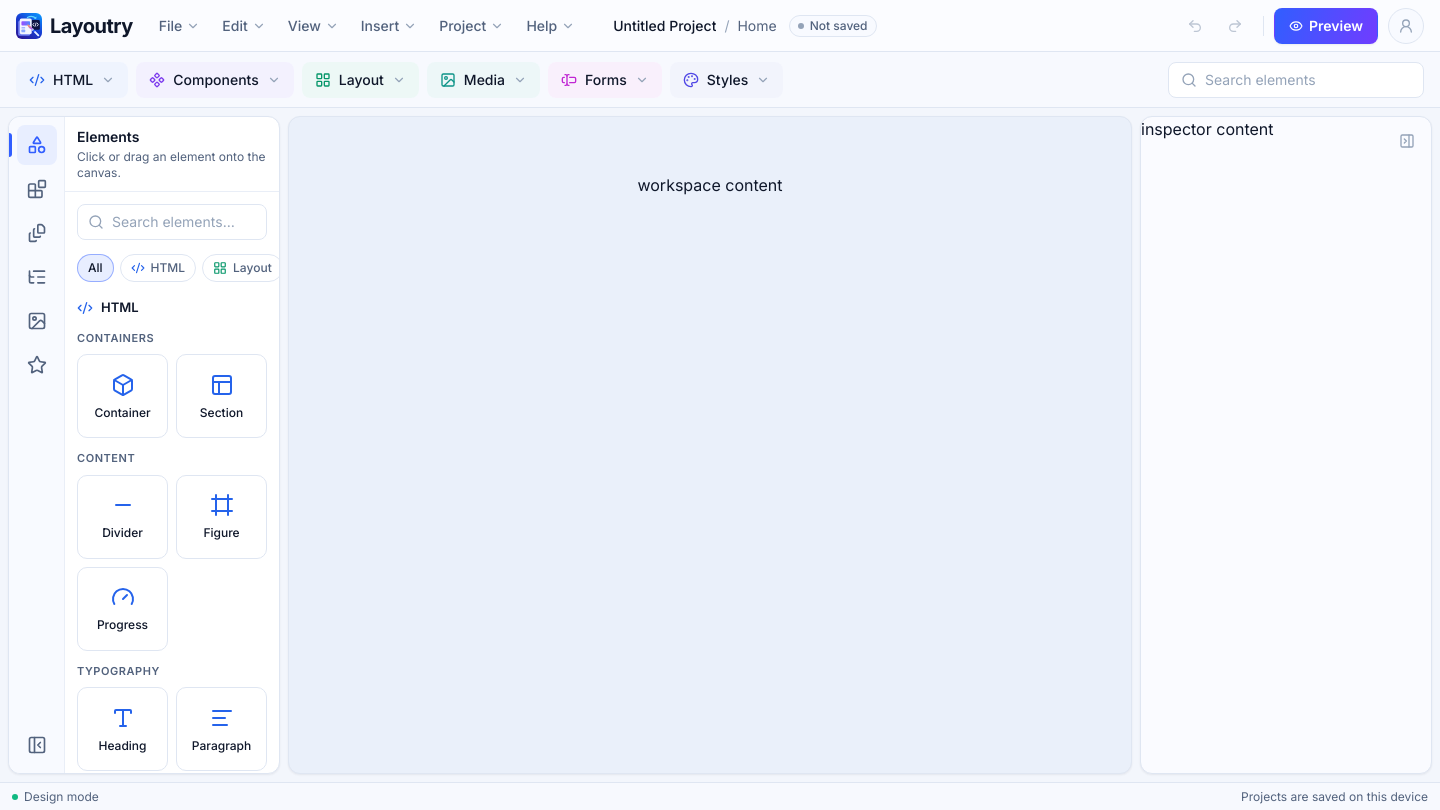
AppShell panel collapse › keeps hidden (View menu) and collapsed distinct: re-showing restores the collapsed rail
Click the button named "Collapse Resource panel" at (36,745), box [16,725,56,765]
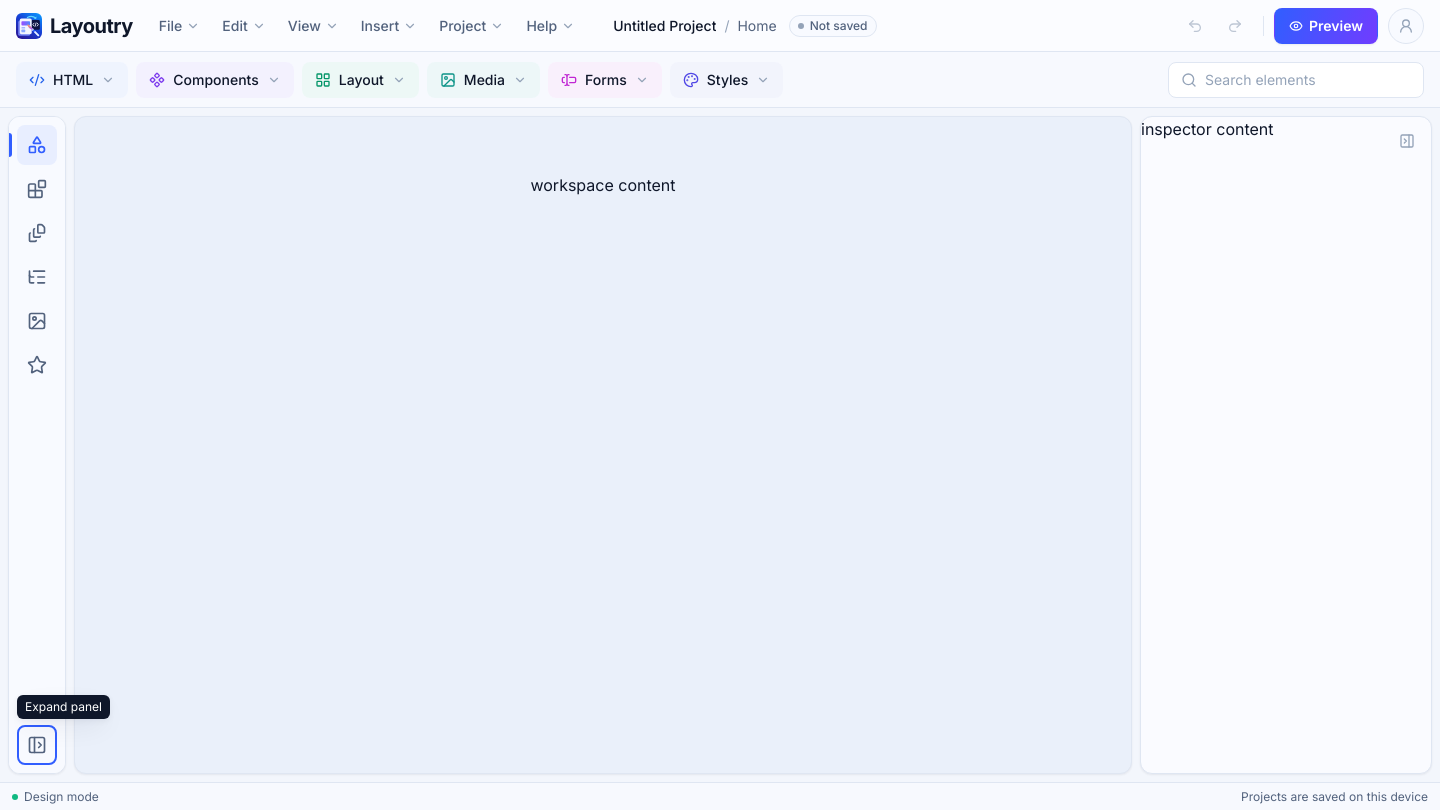
Click the menu item "View" at (313,26), box [278,10,349,42]
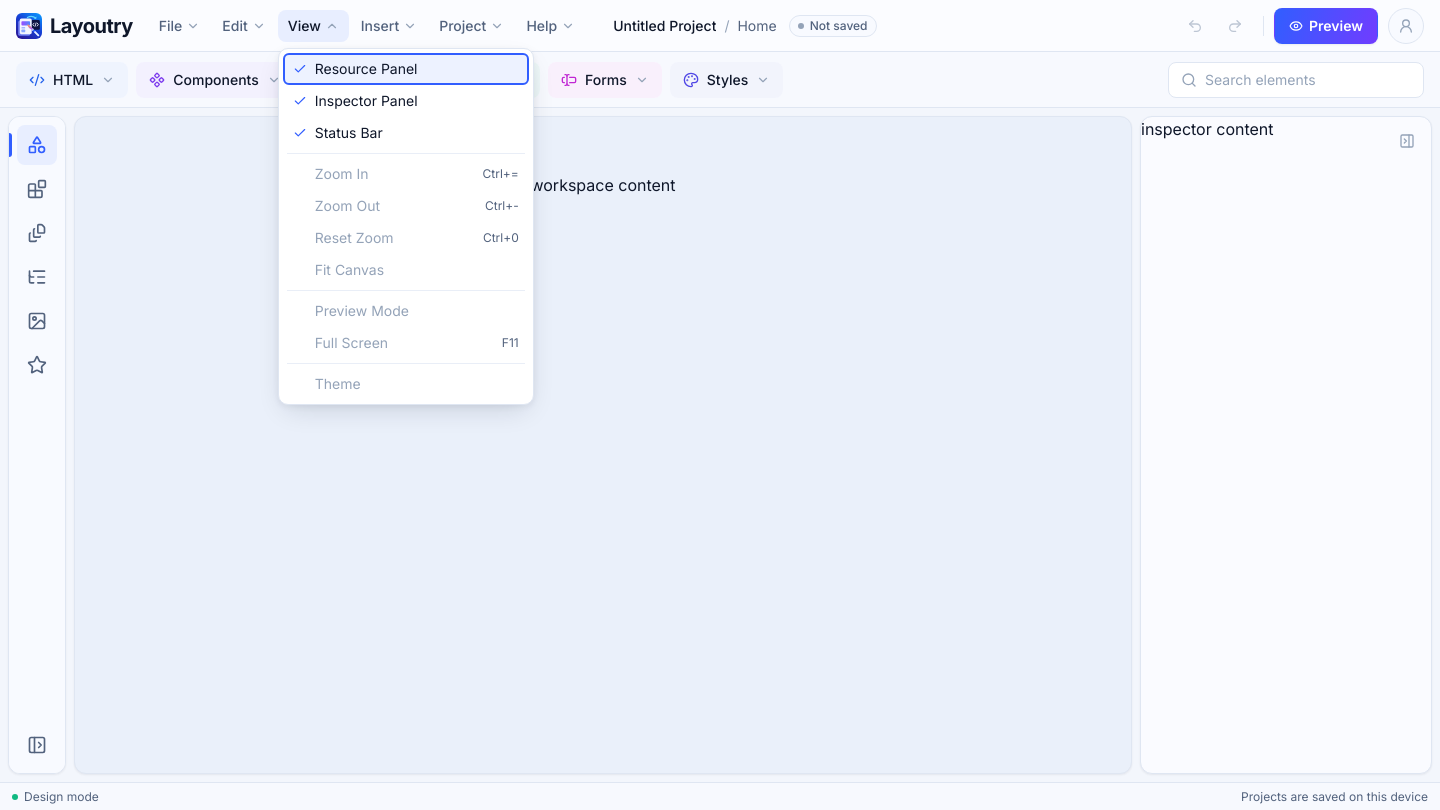
Click the menu item "Resource Panel" at (406,68), box [283,52,529,84]
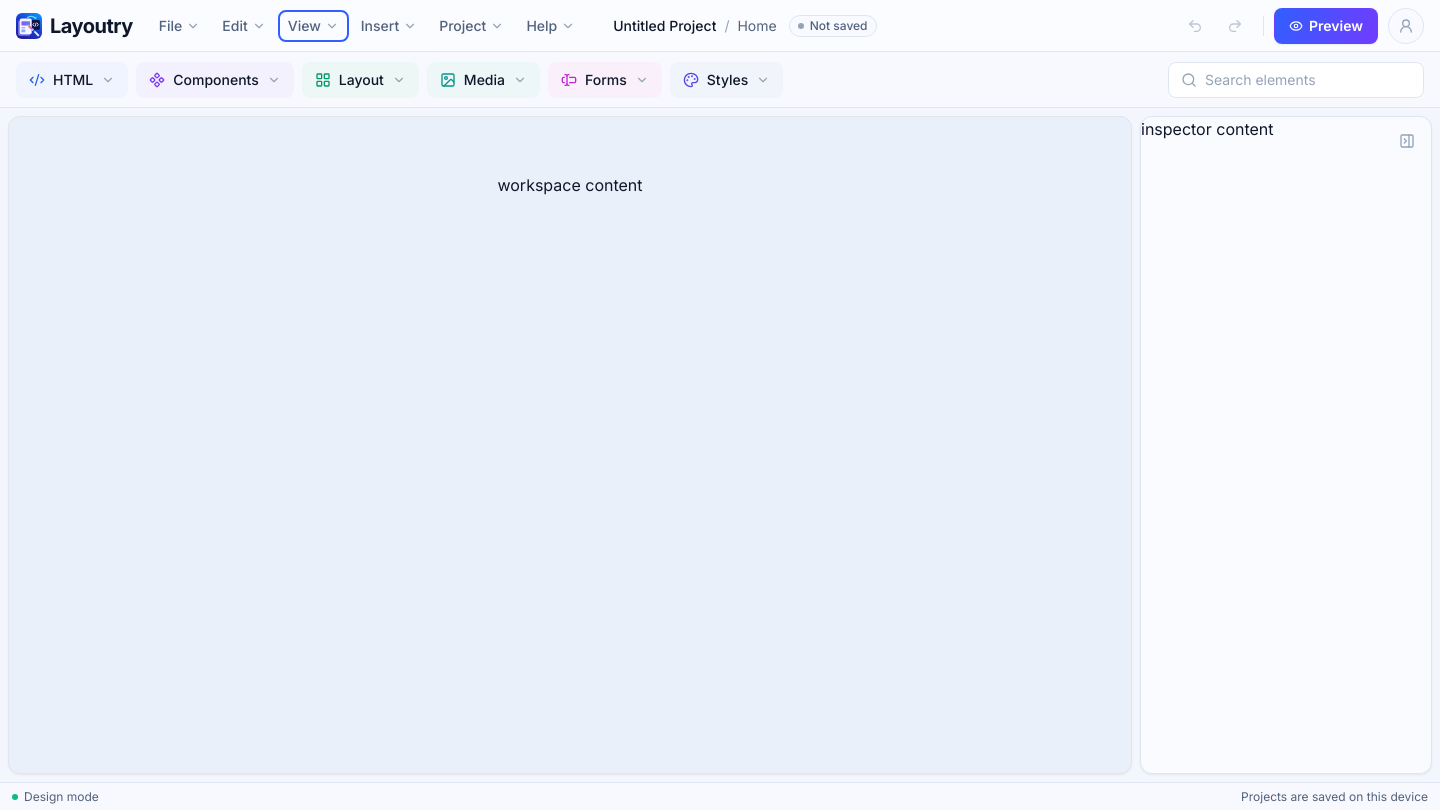
Check: the menu item "Resource Panel" is gone
Click the menu item "View" at (313,26), box [278,10,349,42]
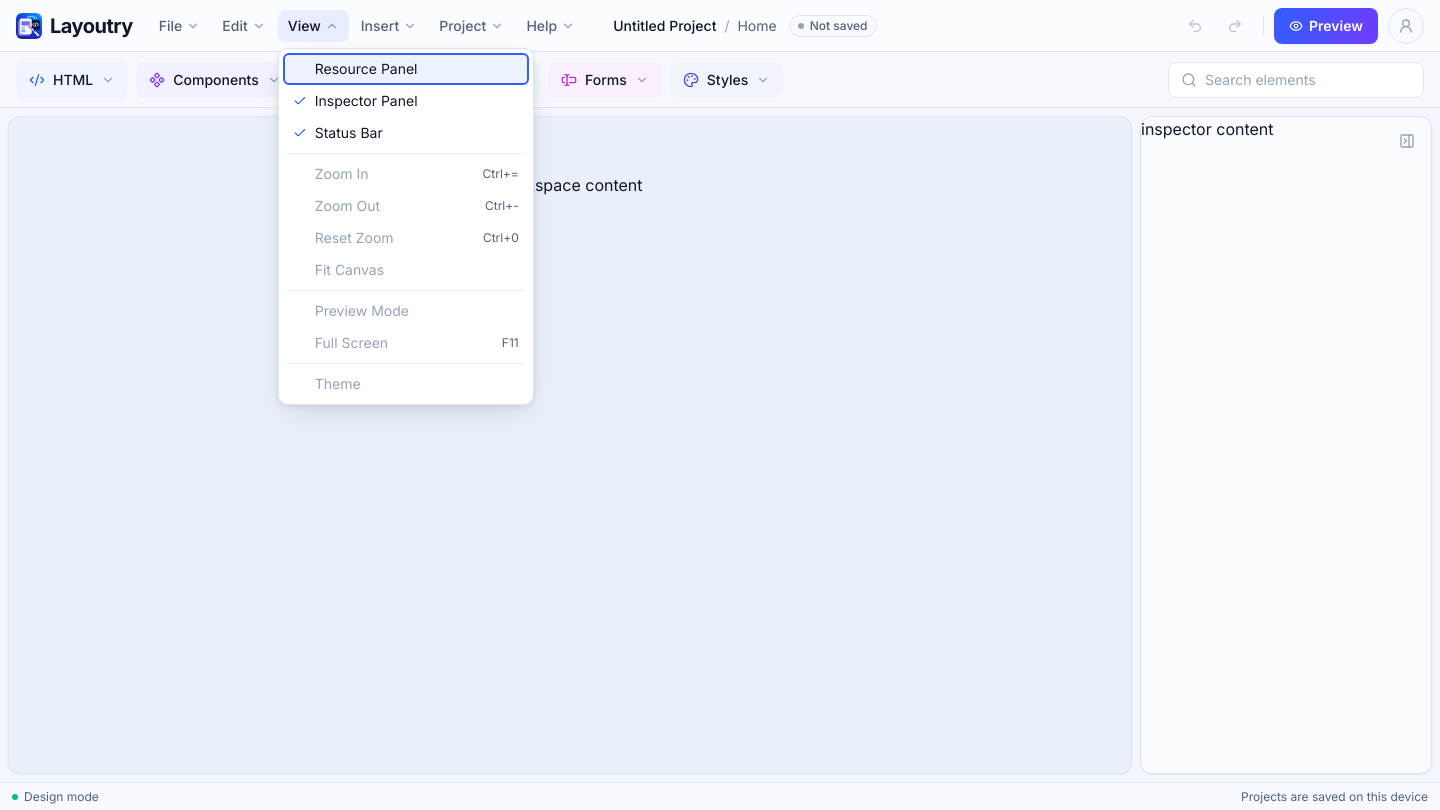
Click the menu item "Resource Panel" at (406,68), box [283,52,529,84]
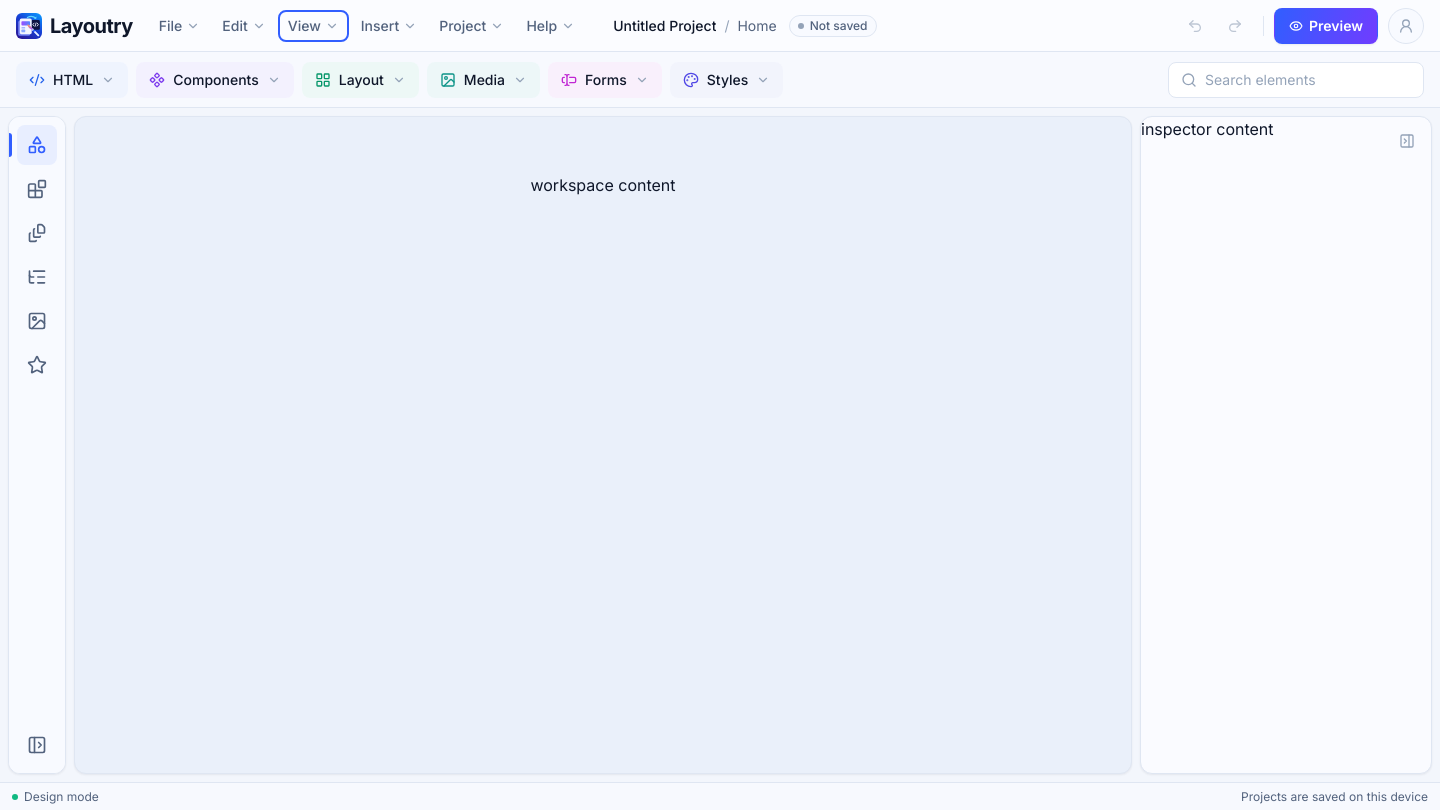
Check: the button named "Expand Resource panel" is shown, box [17,725,57,765]
